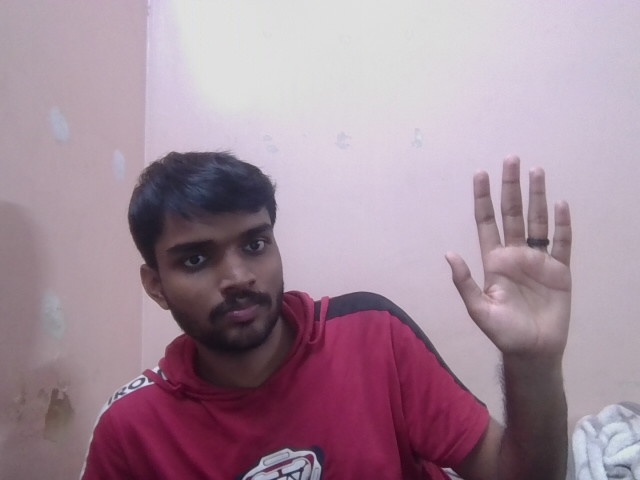Hello: (444, 149, 600, 354)
